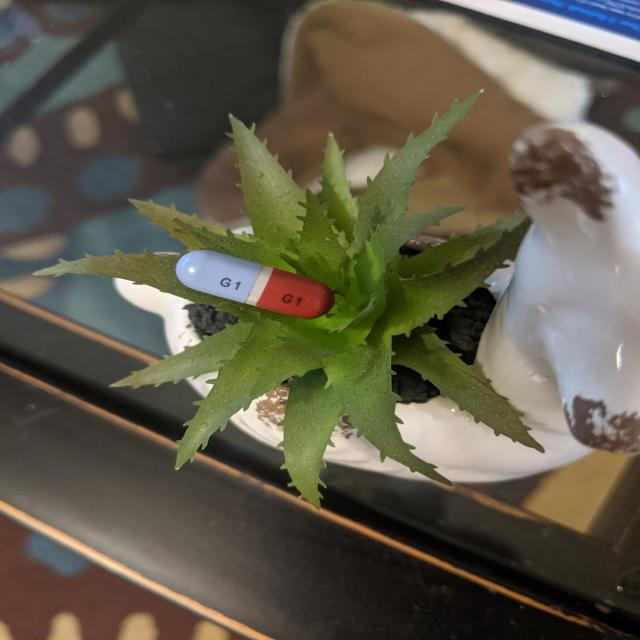non-organic waste: (174, 249, 338, 321)
